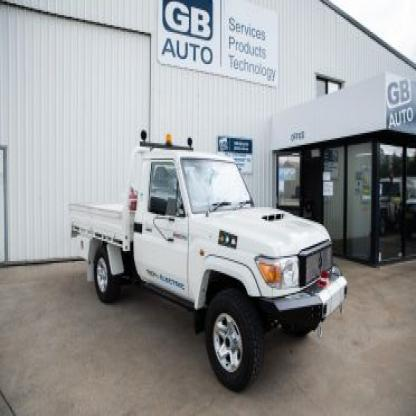light_vehicle: (60, 128, 349, 394)
